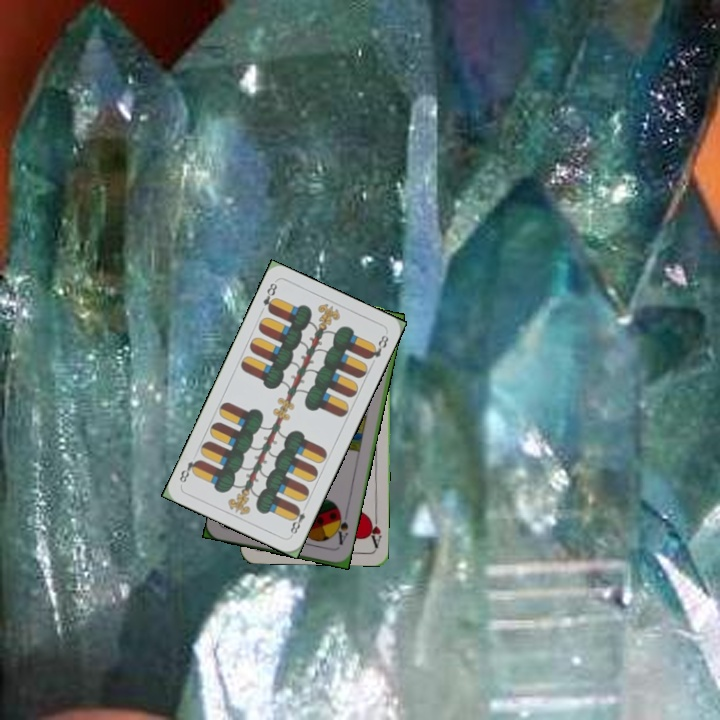E8: (286, 503, 308, 538), (259, 279, 280, 315)
HA: (364, 509, 384, 550)
SA: (330, 509, 351, 547)
